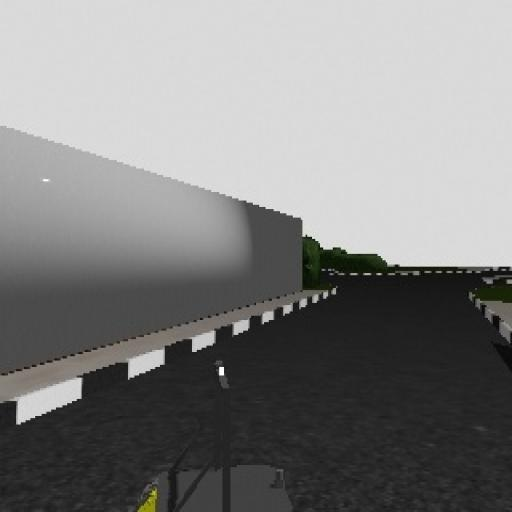huskya200: (122, 350, 297, 512)
